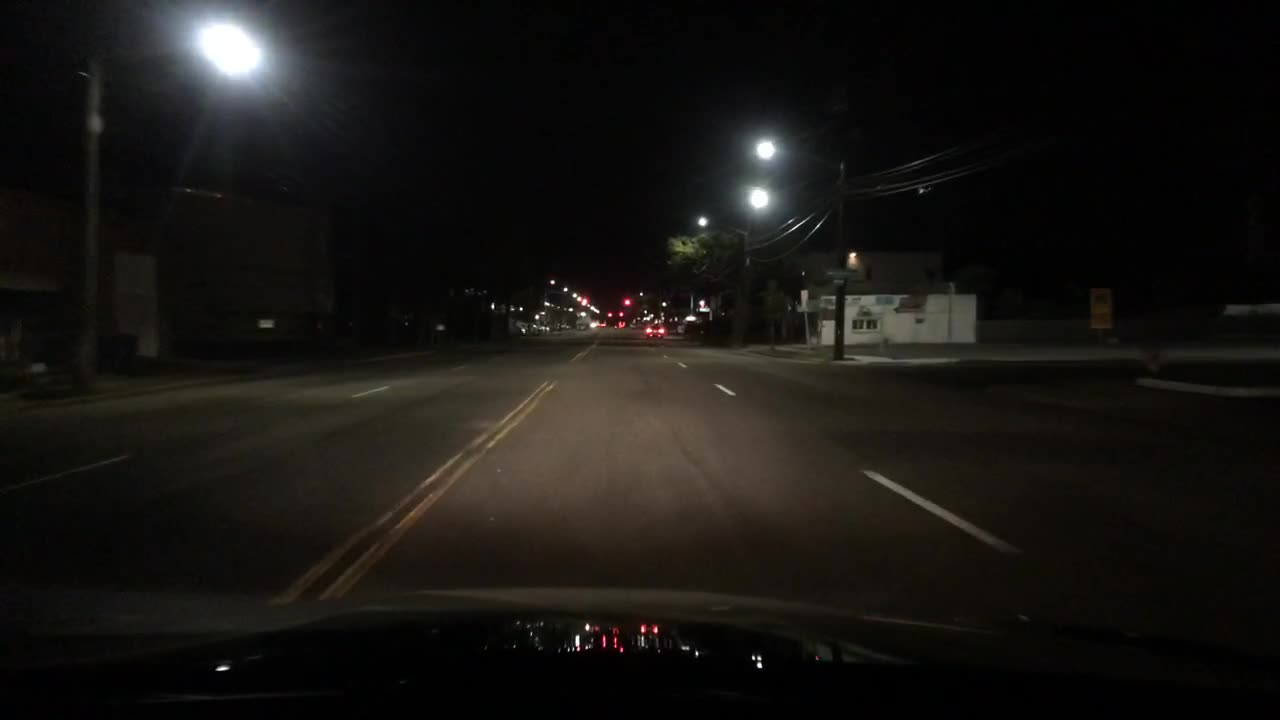car: (643, 320, 667, 343), (538, 320, 554, 337), (559, 318, 576, 332), (513, 321, 526, 337), (527, 320, 540, 335), (627, 318, 641, 330), (594, 318, 608, 329), (613, 320, 627, 331)
traffic light: (576, 295, 589, 308), (618, 294, 631, 305), (614, 310, 627, 318), (606, 310, 616, 318)
traffic sign: (1086, 285, 1112, 329), (824, 268, 862, 283)
